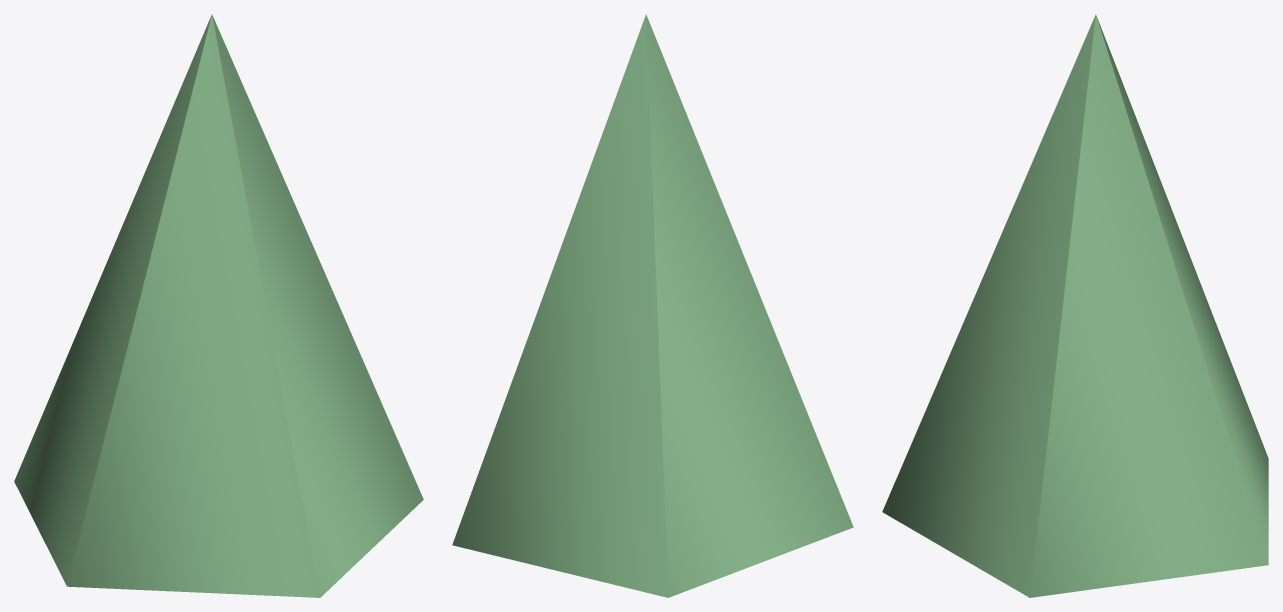
File: foliage-tree-lod1.gltf
3 views of the same model, side by side, from view 1: azimuth 30°, elevation 25°; view 2: azimuth 150°, elevation 25°; view 3: azimuth 270°, elevation 25° (orthographic). The views are drawn at different scales.
Visible parts, largest first — view 1: Canopy; view 2: Canopy; view 3: Canopy.
Part boxes in pixels (x1,y1,x2,y2): Canopy: [14, 14, 423, 597]; Canopy: [452, 14, 853, 597]; Canopy: [882, 14, 1268, 597].
Bounding box in the file's own units: 1.33 × 1.8 × 1.27.
